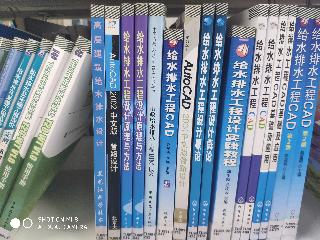book-spine: (0, 37, 91, 240), (0, 35, 69, 213), (265, 7, 313, 240), (207, 26, 256, 240), (250, 5, 289, 240), (281, 9, 320, 240), (241, 5, 278, 240), (232, 4, 268, 240), (260, 6, 296, 239), (196, 5, 227, 239), (186, 5, 214, 239), (0, 39, 51, 165), (173, 6, 199, 240), (154, 29, 182, 240), (141, 4, 163, 240), (91, 5, 107, 239), (131, 4, 146, 239), (106, 6, 119, 239), (122, 4, 133, 239)
